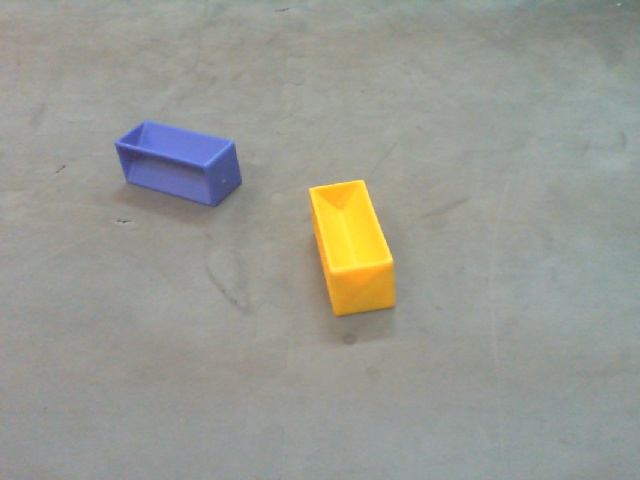BlueSample: (108, 118, 246, 214)
YellowSample: (304, 178, 400, 318)
